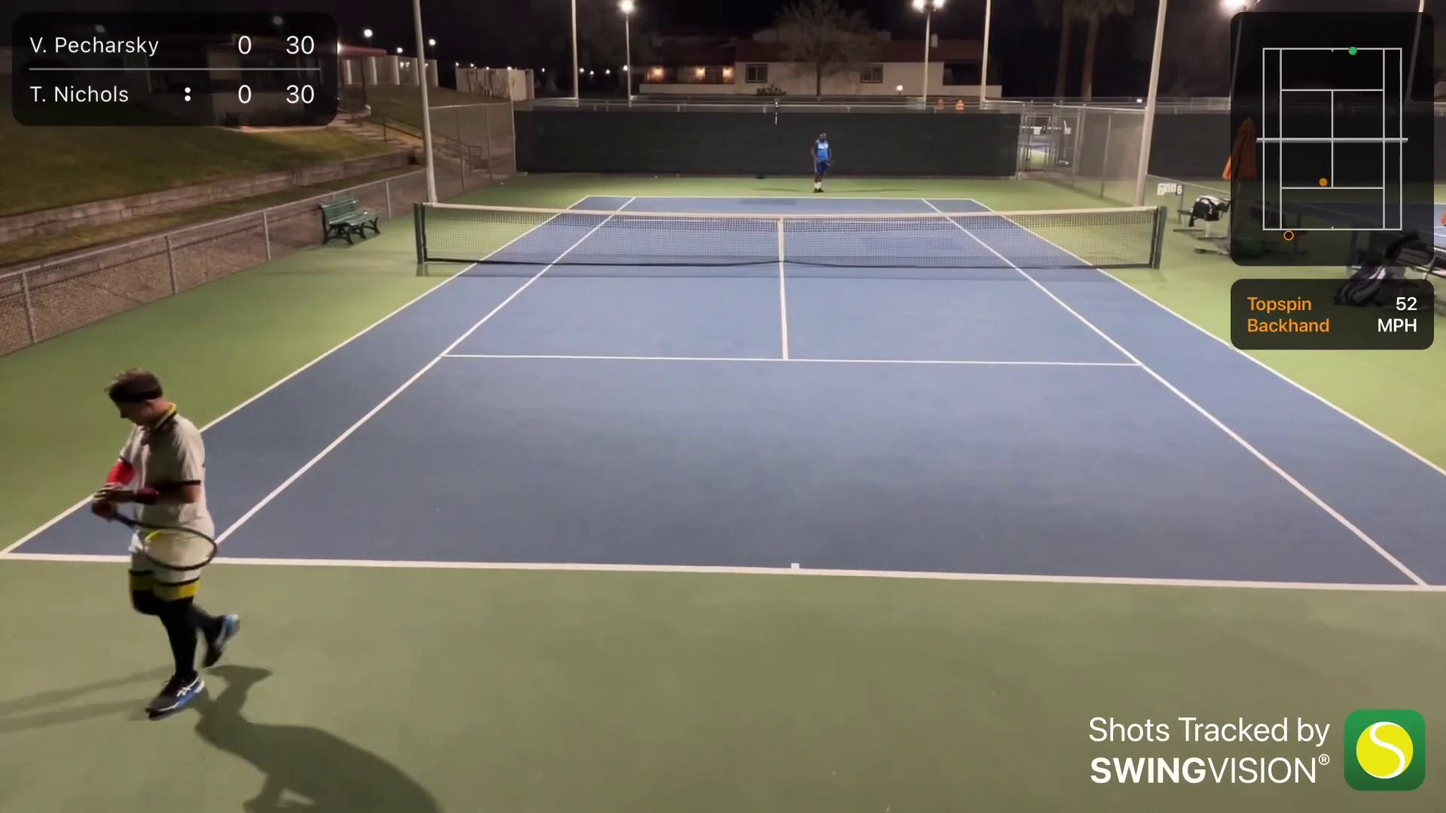ball: (654, 174, 659, 180), (499, 181, 505, 186)
